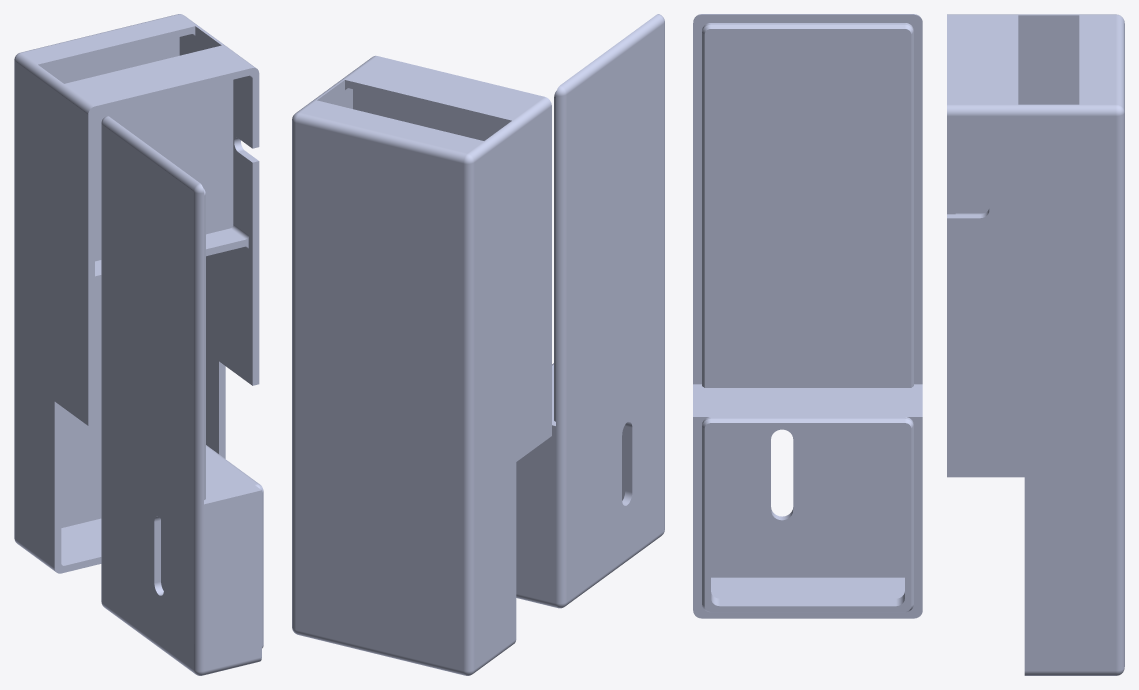
The model's file is Simon_Box_Assy1.glb.
The picture shows the model from 3 angles, left to right: view 1: azimuth 30°, elevation 25°; view 2: azimuth 150°, elevation 25°; view 3: azimuth 270°, elevation 25°; orthographic projection. The views are drawn at different scales.
Parts seen in each view (by area): view 1: Simon Box-1, Simon Box Lid-1; view 2: Simon Box-1, Simon Box Lid-1; view 3: Simon Box Lid-1, Simon Box-1.
Part boxes in pixels (<box>): Simon Box-1: <box>14,14,259,573</box>; Simon Box Lid-1: <box>101,116,263,675</box>; Simon Box-1: <box>292,55,551,675</box>; Simon Box Lid-1: <box>516,14,664,608</box>; Simon Box Lid-1: <box>693,14,922,618</box>; Simon Box-1: <box>947,14,1124,675</box>.
Size of the model in its own units: 0.0654 by 0.1798 by 0.1232.
